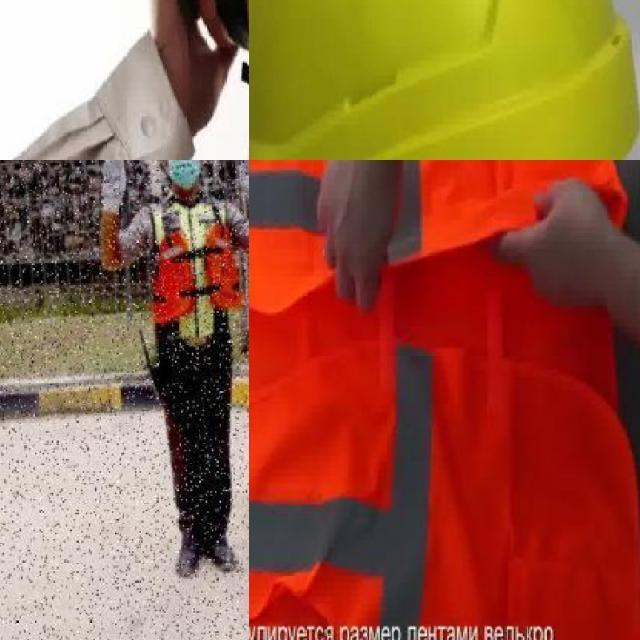apron: (99, 160, 127, 218), (235, 160, 249, 208)
